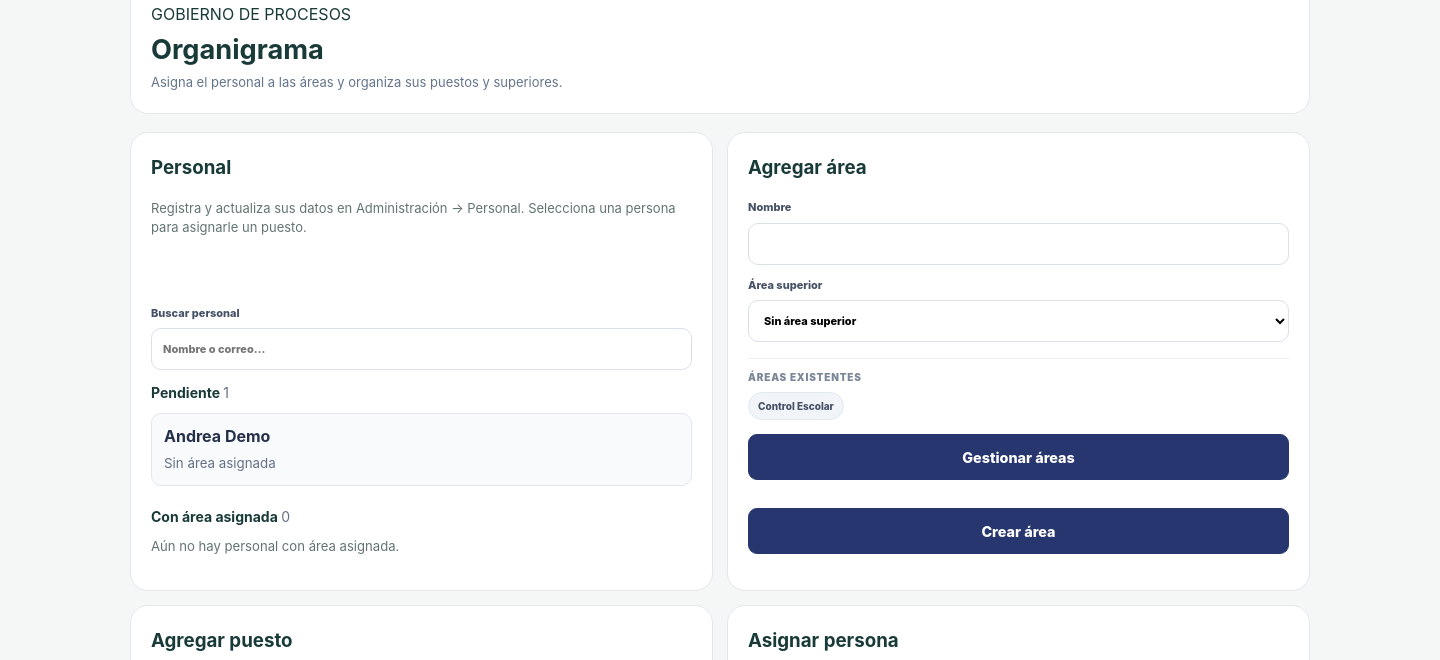
Organigrama ICMSA — réplica KPIs Web › mueve a la persona de pendiente a su área después de asignarla
The width and height of the screenshot is (1440, 660).
Click the button "Andrea Demo Sin área asignada".
click(217, 436)  # box [151,413,692,486]
(page scrolled)
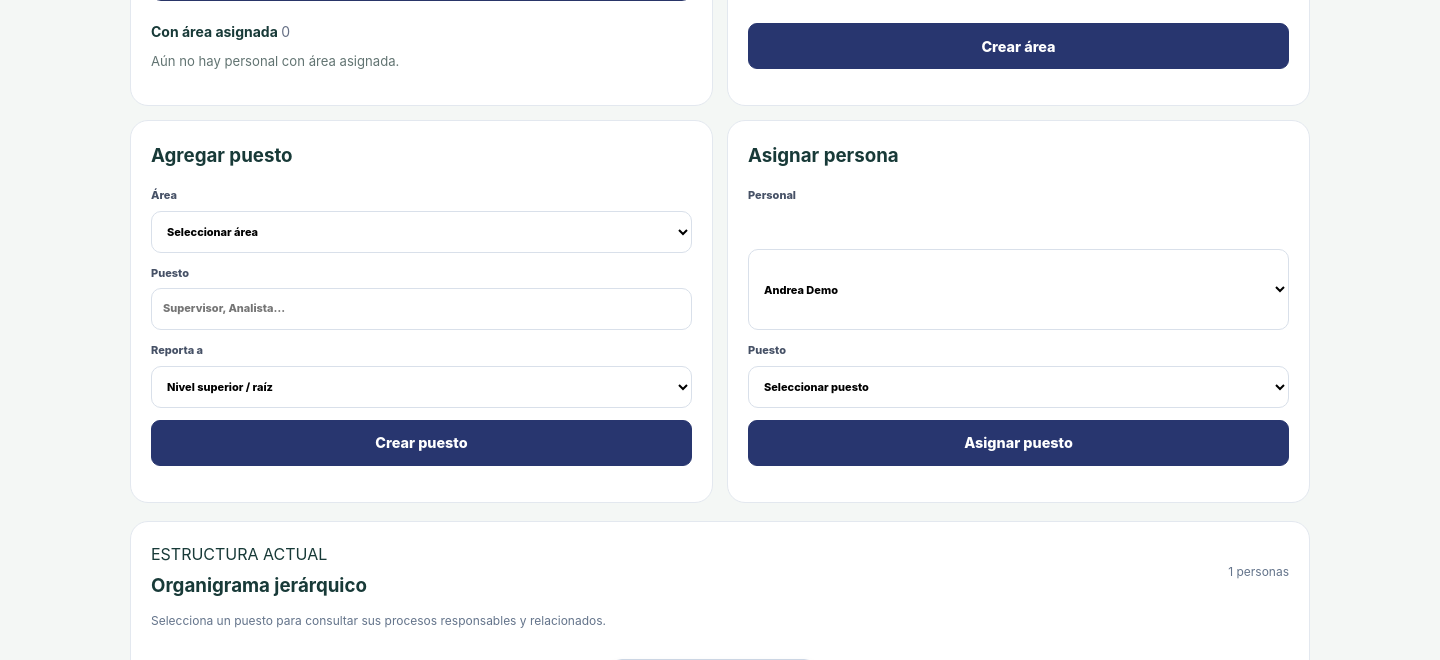
Select "Responsable · Control Escolar · Vacante" in the dropdown labelled "Puesto" at (1018, 387), box [748,366,1289,408]
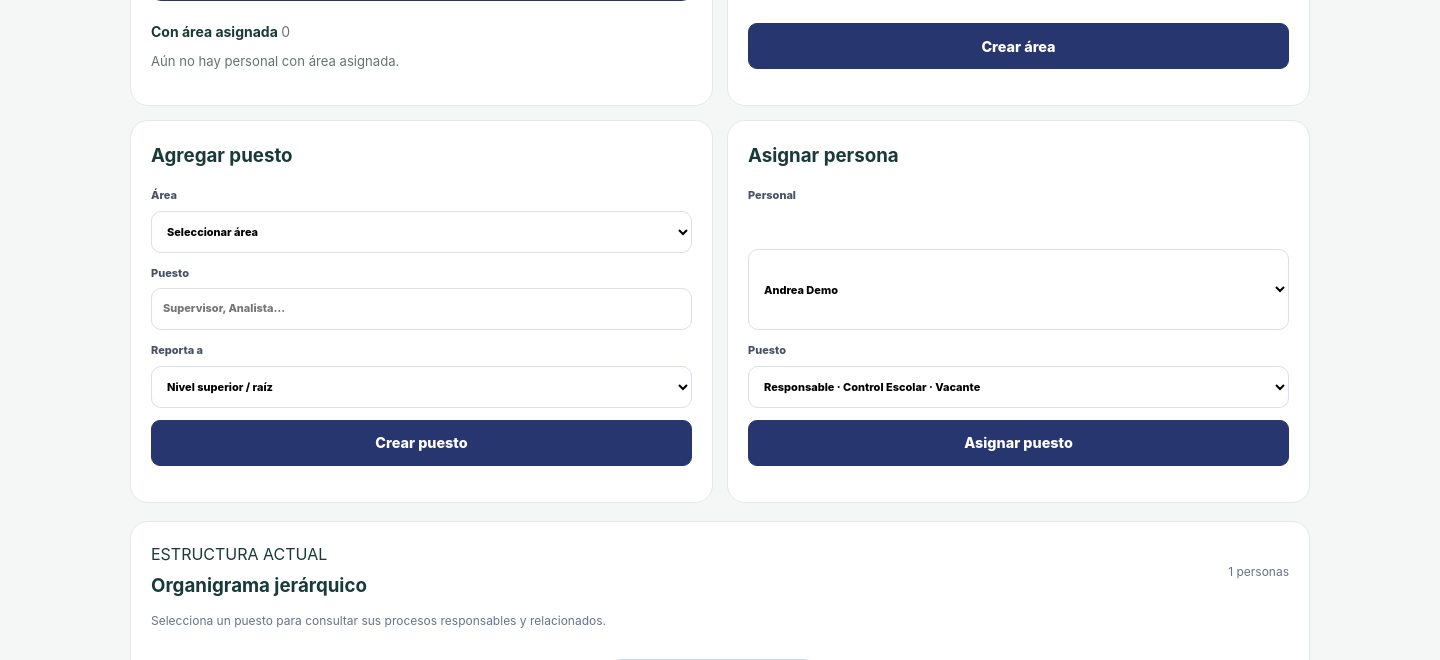
Click the button "Asignar puesto".
click(1018, 443)  # box [748,420,1289,466]
(page scrolled)
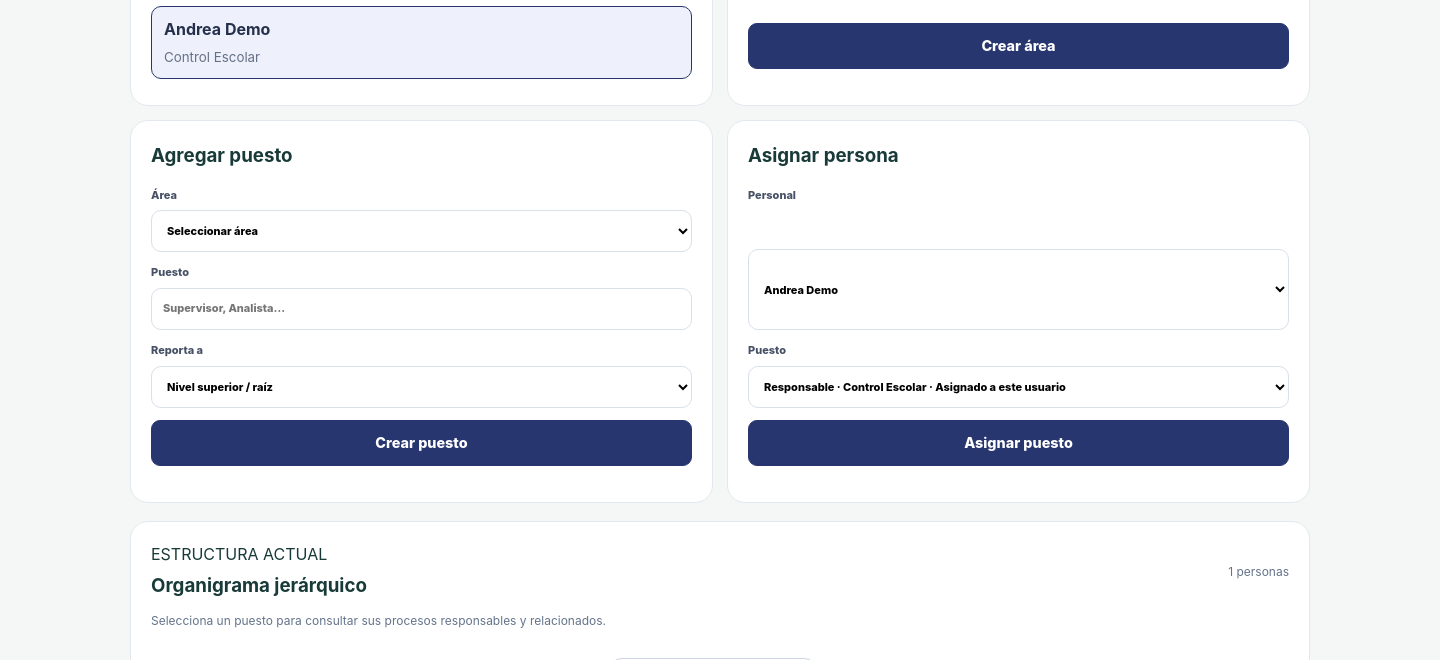
Expected: the text "Andrea Demo" below "Con área asignada" is shown, [164,19,270,39]
Expected: the text "Control Escolar" below "Con área asignada" is shown, [164,49,260,65]
